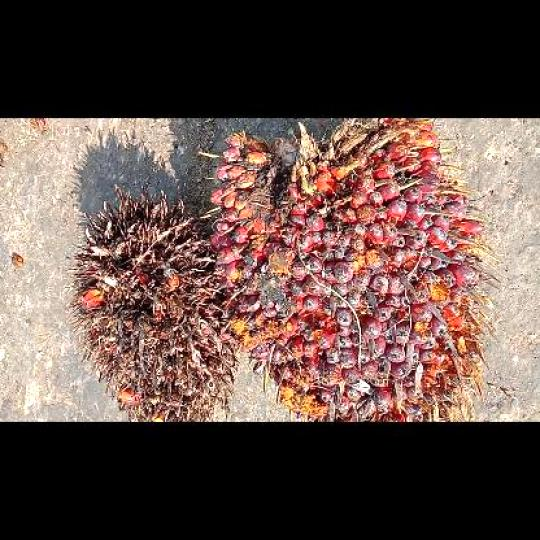masak: (206, 117, 500, 418)
terlalu masak: (67, 184, 239, 421)
